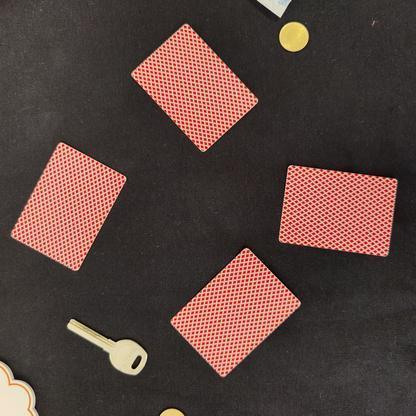card: (158, 244, 314, 387), (124, 14, 269, 157), (2, 130, 134, 282), (269, 158, 404, 263)
